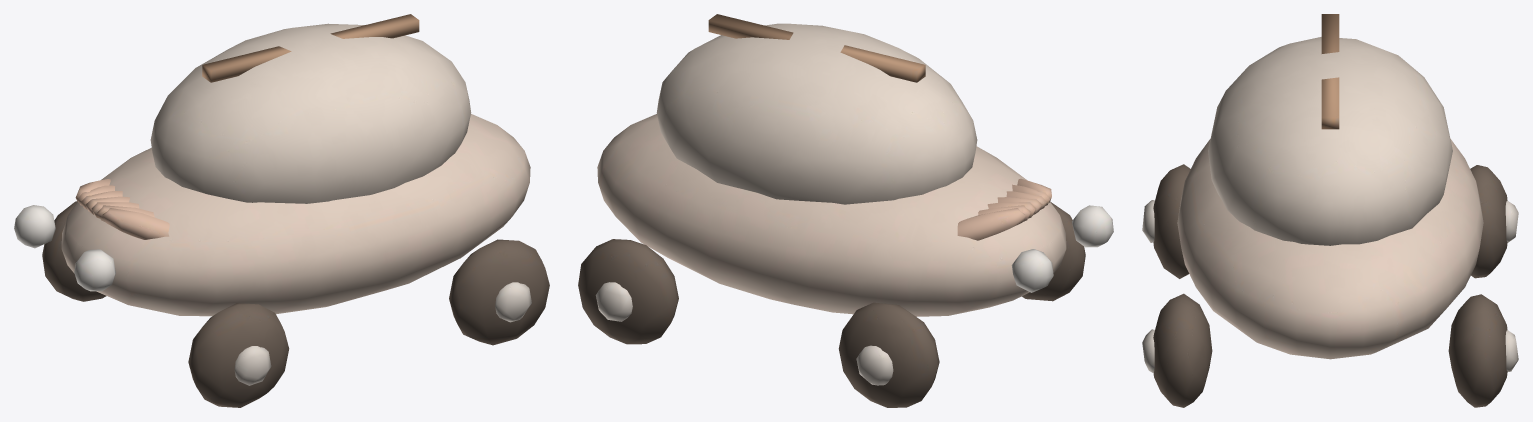
Rendered from keepsake-shell-car.glb.
3 renders of one model, left to right at view 1: azimuth 30°, elevation 25°; view 2: azimuth 150°, elevation 25°; view 3: azimuth 270°, elevation 25°, orthographic.
Visible parts, largest first — view 1: keepsake-shell-car; view 2: keepsake-shell-car; view 3: keepsake-shell-car.
Boxes of the visible parts, x1,y1,x2,y2 form: keepsake-shell-car: [14, 14, 549, 407]; keepsake-shell-car: [578, 14, 1113, 407]; keepsake-shell-car: [1142, 14, 1518, 407].
Size of the model in its own units: 0.12 by 0.0672 by 0.0815.
Materials: 1 (1 with a texture image).
